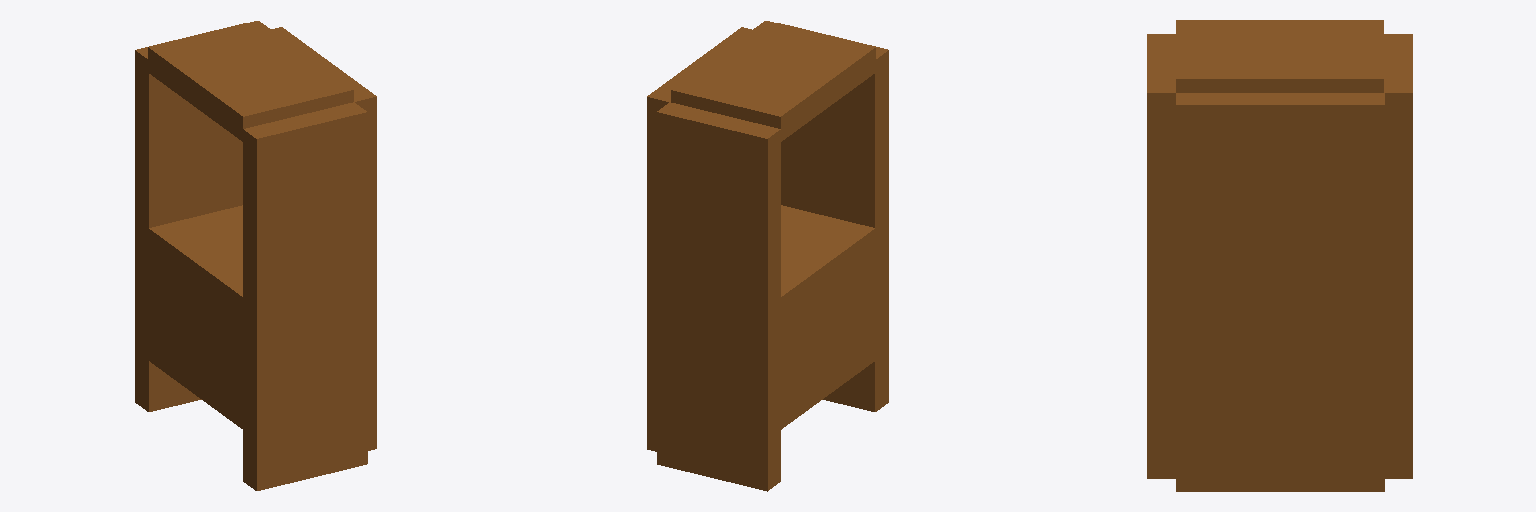
The robot description file, URDF, robot "dummy":
<?xml version="1.0"?>
<robot name="dummy">
  <link name="bottom_wall">
    <visual>
      <origin xyz="0.0 0.0 0.08530698644066265" rpy="0 0 0"/>
      <geometry>
        <mesh filename="bottom_wall.obj" scale="1 1 1"/>
      </geometry>
      <material name="brown">
        <color rgba="0.6 0.4 0.2 1.0"/>
      </material>
    </visual>
    <collision>
      <origin xyz="0.0 0.0 0.08530698644066265" rpy="0 0 0"/>
      <geometry>
        <mesh filename="bottom_wall.obj" scale="1 1 1"/>
      </geometry>
    </collision>
  </link>

  <link name="left_wall">
    <visual>
      <origin xyz="0.0 -0.16037961723281557 0.0" rpy="0 0 0"/>
      <geometry>
        <mesh filename="vertical_wall.obj" scale="1 1 1"/>
      </geometry>
      <material name="brown">
        <color rgba="0.6 0.4 0.2 1.0"/>
      </material>
    </visual>
    <collision>
      <origin xyz="0.0 -0.16037961723281557 0.0" rpy="0 0 0"/>
      <geometry>
        <mesh filename="vertical_wall.obj" scale="1 1 1"/>
      </geometry>
    </collision>
  </link>

  <link name="right_wall">
    <visual>
      <origin xyz="0.0 0.16037961723281557 0.0" rpy="0 0 0"/>
      <geometry>
        <mesh filename="vertical_wall.obj" scale="1 1 1"/>
      </geometry>
      <material name="brown">
        <color rgba="0.6 0.4 0.2 1.0"/>
      </material>
    </visual>
    <collision>
      <origin xyz="0.0 0.16037961723281557 0.0" rpy="0 0 0"/>
      <geometry>
        <mesh filename="vertical_wall.obj" scale="1 1 1"/>
      </geometry>
    </collision>
  </link>

  <link name="back_wall">
    <visual>
      <origin xyz="0.11409403124983548 0.0 0.0" rpy="0 0 0"/>
      <geometry>
        <mesh filename="back_wall.obj" scale="1 1 1"/>
      </geometry>
      <material name="brown">
        <color rgba="0.6 0.4 0.2 1.0"/>
      </material>
    </visual>
    <collision>
      <origin xyz="0.11409403124983548 0.0 0.0" rpy="0 0 0"/>
      <geometry>
        <mesh filename="back_wall.obj" scale="1 1 1"/>
      </geometry>
    </collision>
  </link>

  <link name="top_wall">
    <visual>
      <origin xyz="0.0 0.0 0.5562374107194377" rpy="0 0 0"/>
      <geometry>
        <mesh filename="top_wall.obj" scale="1 1 1"/>
      </geometry>
      <material name="brown">
        <color rgba="0.6 0.4 0.2 1.0"/>
      </material>
    </visual>
    <collision>
      <origin xyz="0.0 0.0 0.5562374107194377" rpy="0 0 0"/>
      <geometry>
        <mesh filename="top_wall.obj" scale="1 1 1"/>
      </geometry>
    </collision>
  </link>

  <joint name="left_wall_joint" type="fixed">
    <origin xyz="0 0 0" rpy="0 0 0"/>
    <parent link="bottom_wall"/>
    <child link="left_wall"/>
  </joint>

  <joint name="right_wall_joint" type="fixed">
    <origin xyz="0 0 0" rpy="0 0 0"/>
    <parent link="bottom_wall"/>
    <child link="right_wall"/>
  </joint>

  <joint name="back_wall_joint" type="fixed">
    <origin xyz="0 0 0" rpy="0 0 0"/>
    <parent link="bottom_wall"/>
    <child link="back_wall"/>
  </joint>

  <joint name="top_wall_joint" type="fixed">
    <origin xyz="0 0 0" rpy="0 0 0"/>
    <parent link="bottom_wall"/>
    <child link="top_wall"/>
  </joint>

</robot>

--- What the picture shows (computed from the rendered views, not written in the file) ---
The picture shows the robot from 3 angles, left to right: view 1: azimuth 30°, elevation 25°; view 2: azimuth 150°, elevation 25°; view 3: azimuth 270°, elevation 25°; orthographic projection.
Model dummy with 5 links and 4 joints (4 fixed), rooted at bottom_wall, posed every joint at zero.
Links seen in each view (by area): view 1: left_wall, bottom_wall, right_wall, top_wall, back_wall; view 2: right_wall, bottom_wall, left_wall, top_wall, back_wall; view 3: back_wall, top_wall, left_wall, right_wall.
Boxes of the visible links, x1=… form: left_wall: x1=243, y1=102, x2=367, y2=490; bottom_wall: x1=148, y1=205, x2=242, y2=428; right_wall: x1=135, y1=23, x2=245, y2=411; top_wall: x1=148, y1=21, x2=353, y2=141; back_wall: x1=271, y1=27, x2=376, y2=450; right_wall: x1=657, y1=102, x2=780, y2=491; bottom_wall: x1=781, y1=205, x2=875, y2=429; left_wall: x1=778, y1=23, x2=888, y2=411; top_wall: x1=671, y1=21, x2=875, y2=141; back_wall: x1=647, y1=27, x2=751, y2=451; back_wall: x1=1176, y1=92, x2=1384, y2=491; top_wall: x1=1176, y1=20, x2=1383, y2=92; left_wall: x1=1147, y1=34, x2=1175, y2=478; right_wall: x1=1384, y1=34, x2=1412, y2=478.
Bounding box of the posed robot: 0.2301 × 0.3622 × 0.5983 m (x, y, z).
5 mesh visuals loaded from 4 distinct referenced files (4 OBJ).
